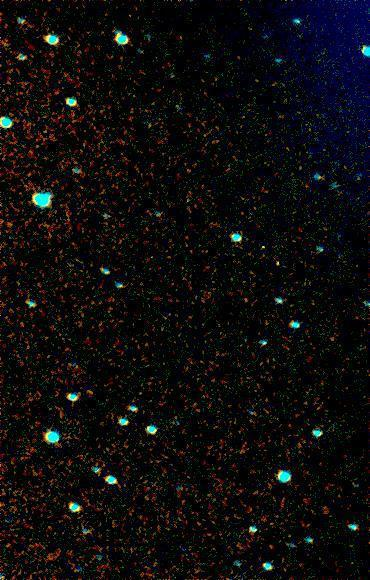star: (261, 248, 291, 278)
